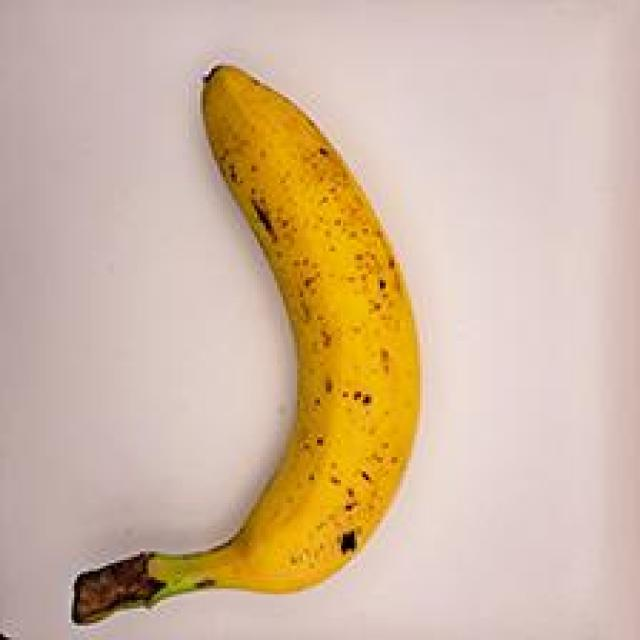Overripe: (25, 42, 463, 628)
